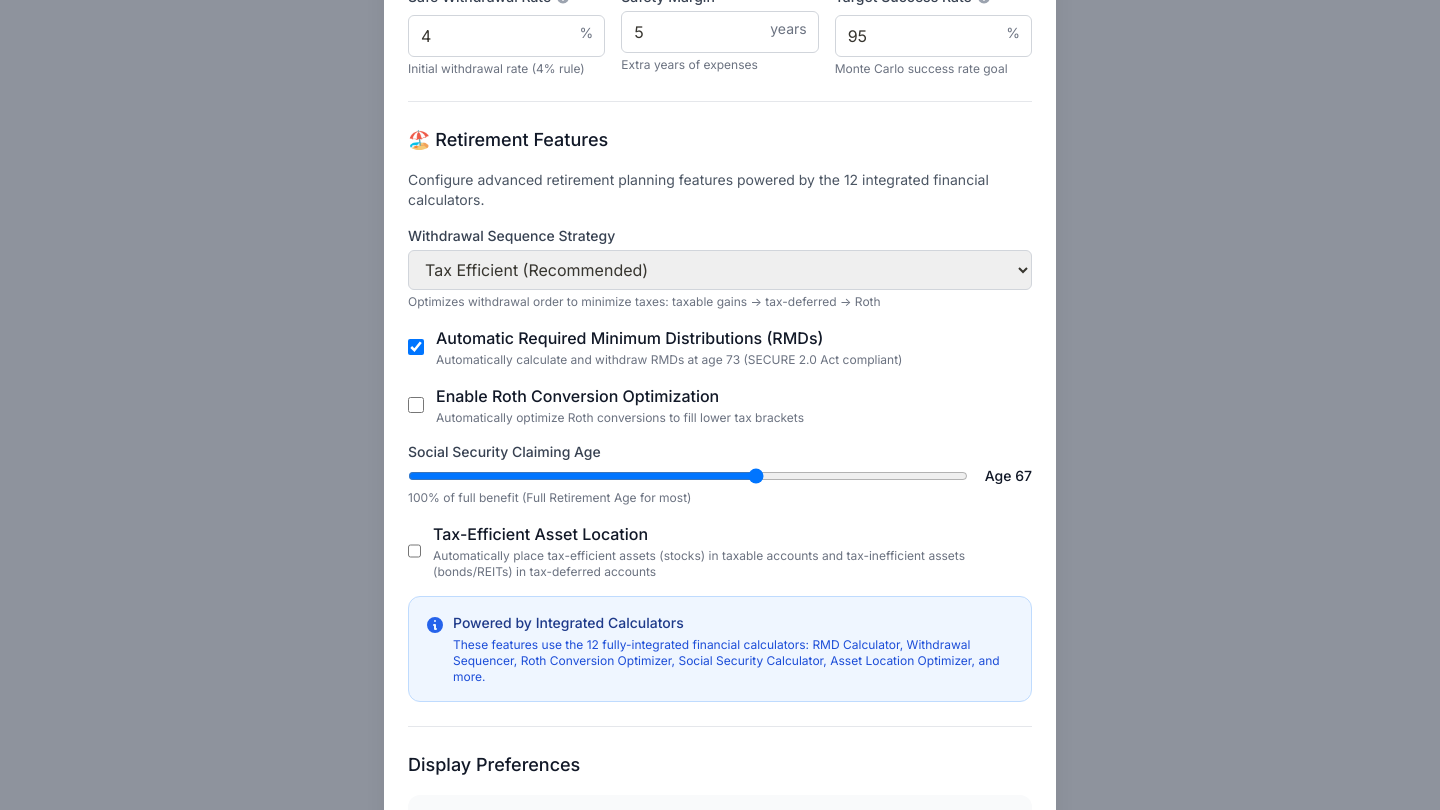
Test: ApplicationSettingsModal - Retirement Features › State Updates and UI Interactions › toggles Roth conversion checkbox and shows/hides tax rate slider
(page scrolled)
Check: the field labelled "Maximum Tax Rate for Conversions" is not shown
Note: Enable Roth conversions
Click the checkbox labelled "Roth Conversion Optimization" at coordinates (416, 405), box [408,397,424,413]
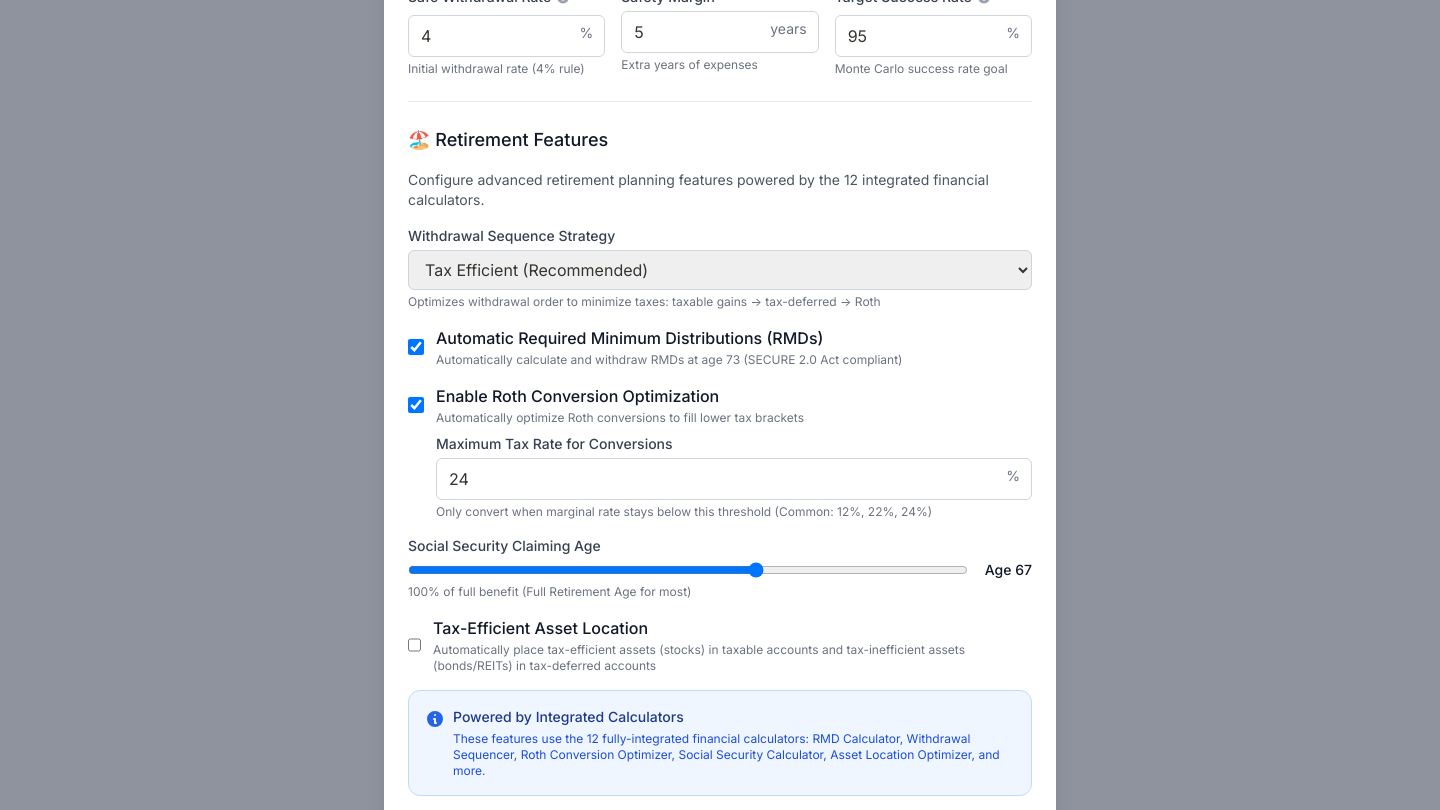
Check: the checkbox labelled "Roth Conversion Optimization" is checked, box [408,397,424,413]
Check: the number field labelled "Maximum Tax Rate for Conversions" is shown, box [436,458,1032,500]
